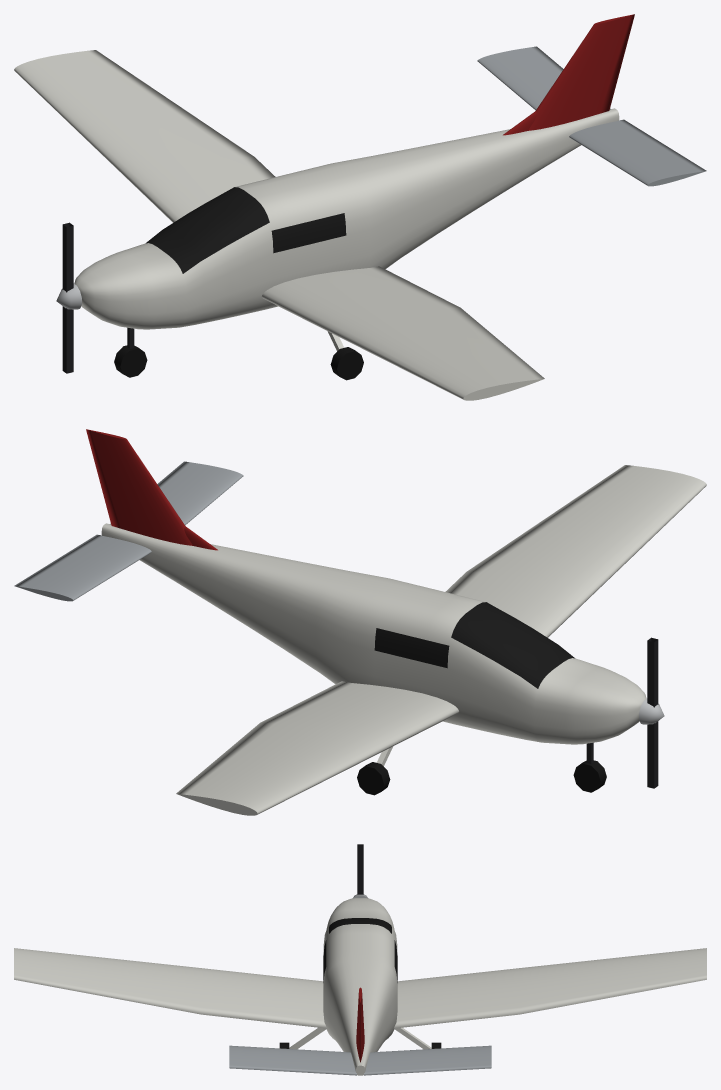
The picture shows the model from 3 angles, top to bottom: view 1: azimuth 30°, elevation 25°; view 2: azimuth 150°, elevation 25°; view 3: azimuth 270°, elevation 25°; orthographic projection. The views are drawn at different scales.
Parts seen in each view (by area): view 1: p28a; view 2: p28a; view 3: p28a.
Part boxes in pixels (x1,y1,x2,y2): p28a: [14, 14, 706, 400]; p28a: [14, 429, 706, 815]; p28a: [14, 844, 706, 1075].
Bounding box in the file's own units: 7.78 × 3.14 × 10.46.
